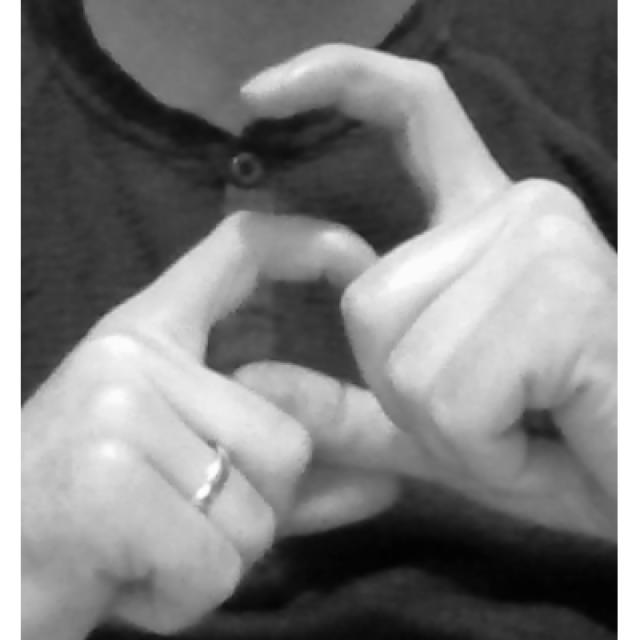G-: (21, 38, 614, 640)
